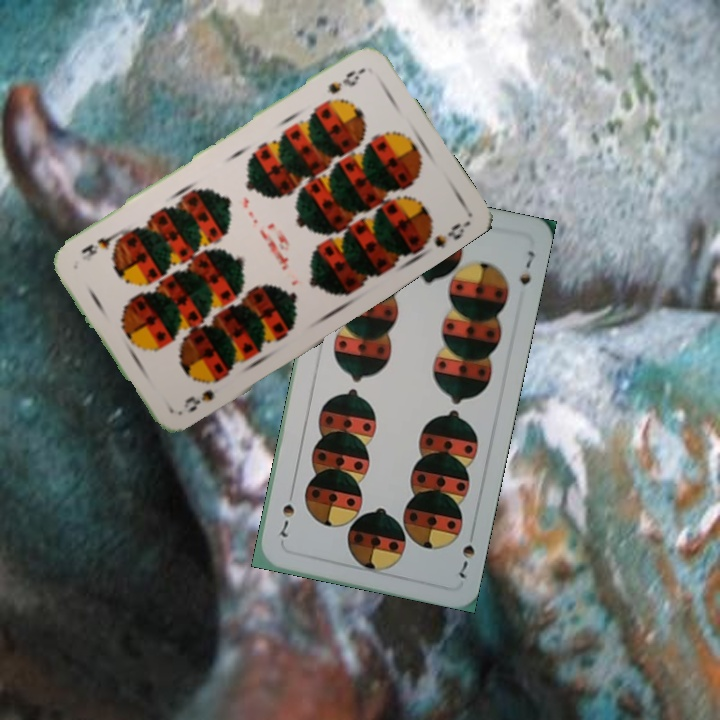S7: (454, 541, 478, 581)
S9: (179, 373, 224, 415), (324, 65, 366, 97)
